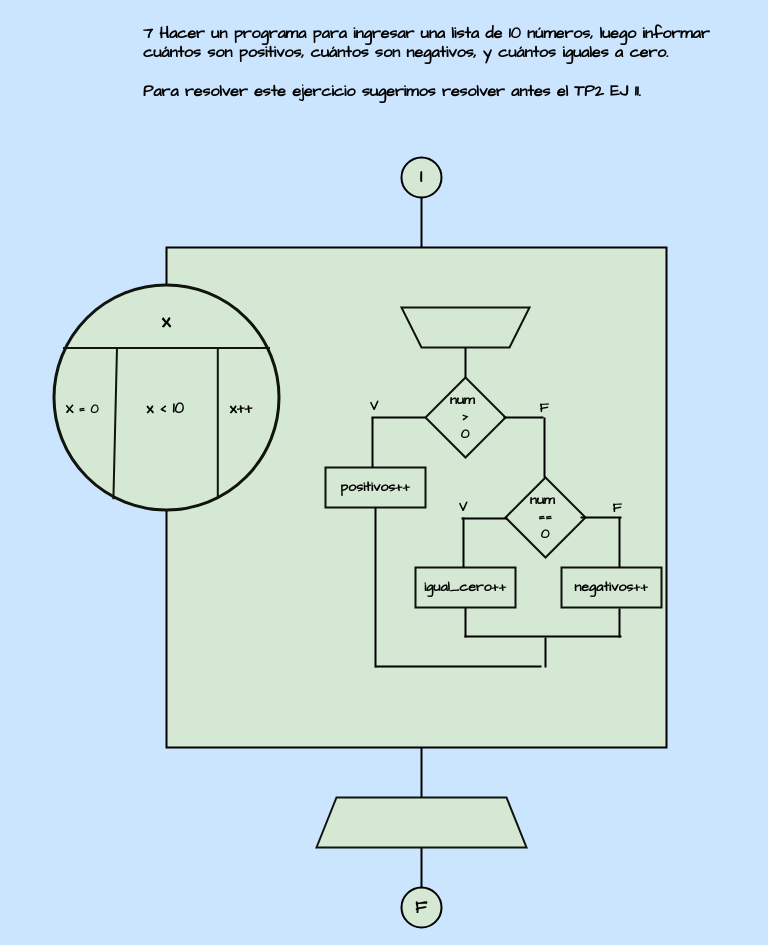
Image size: 768x945. Some labels were removed from this diagram. Each missing label, with the box of its shape:
num: (400, 306, 530, 348)
positivos, negativos, igual_cero: (315, 796, 527, 848)
